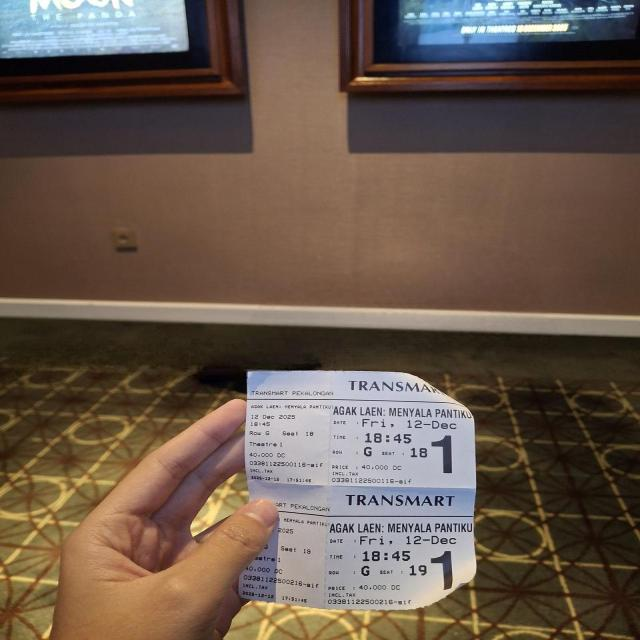date: (247, 409, 309, 428)
store: (346, 378, 458, 397)
total: (330, 463, 408, 472)
